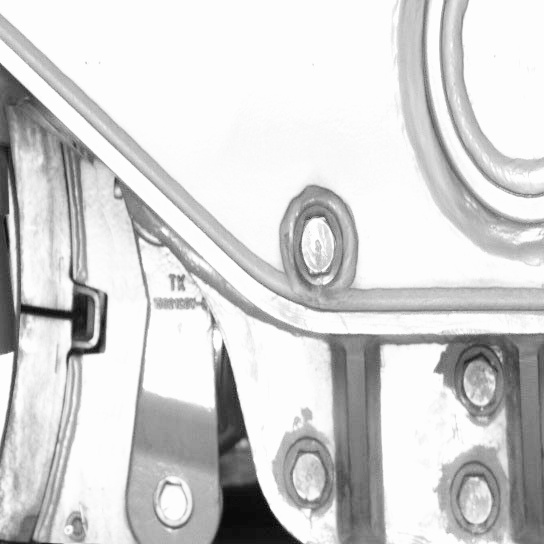ClosedKnifeSwitch: (1, 138, 89, 541)
